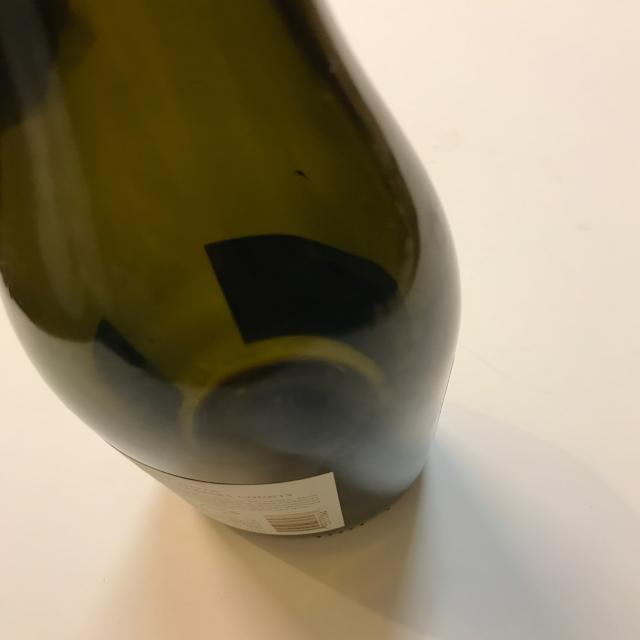glass: (0, 0, 463, 539)
